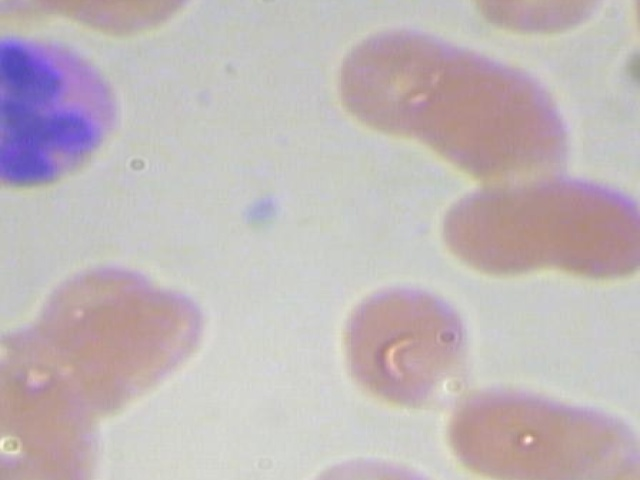Platelets: (219, 187, 293, 229)
RBC: (433, 383, 640, 480), (330, 277, 481, 408), (324, 19, 475, 150), (434, 170, 561, 283), (513, 169, 640, 280)
WBC: (0, 23, 158, 205)
